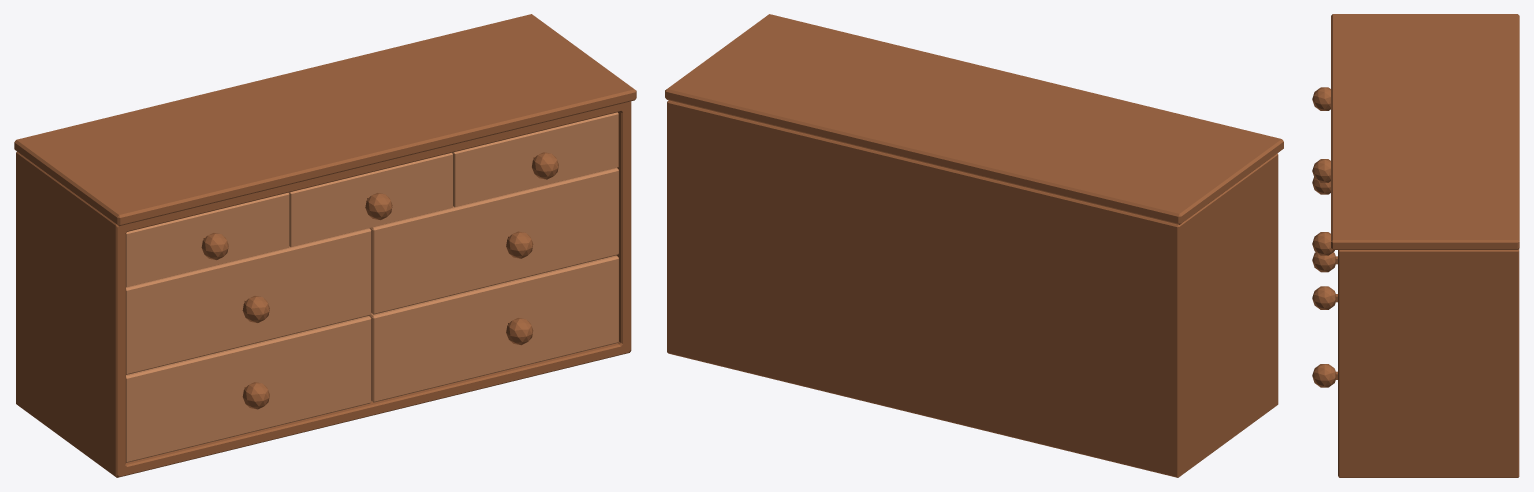
The model's file is drawer_normal.gltf.
3 views of the same model, side by side, from view 1: azimuth 30°, elevation 25°; view 2: azimuth 150°, elevation 25°; view 3: azimuth 270°, elevation 25° (orthographic). The views are drawn at different scales.
Visible parts, largest first — view 1: Drawer A, Drawer A.007, Drawer A.004, Drawer A.006, Drawer A.005, Drawer A.003, Drawer A.002, Drawer A.001; view 2: Drawer A; view 3: Drawer A, Drawer A.007, Drawer A.004, Drawer A.006, Drawer A.003, Drawer A.001, Drawer A.002.
Boxes of the visible parts, x1,y1,x2,y2 form: Drawer A: [14, 14, 636, 477]; Drawer A.007: [369, 255, 618, 402]; Drawer A.004: [369, 167, 618, 314]; Drawer A.006: [126, 316, 371, 462]; Drawer A.005: [126, 228, 371, 374]; Drawer A.003: [452, 112, 618, 207]; Drawer A.002: [288, 152, 452, 247]; Drawer A.001: [126, 192, 289, 287]; Drawer A: [665, 14, 1283, 477]; Drawer A: [1331, 14, 1519, 477]; Drawer A.007: [1312, 364, 1337, 387]; Drawer A.004: [1312, 286, 1337, 309]; Drawer A.006: [1312, 252, 1337, 272]; Drawer A.003: [1312, 232, 1334, 255]; Drawer A.001: [1312, 87, 1330, 110]; Drawer A.002: [1312, 159, 1330, 182].
Size of the model in its own units: 7.73 by 3.78 by 2.98.
